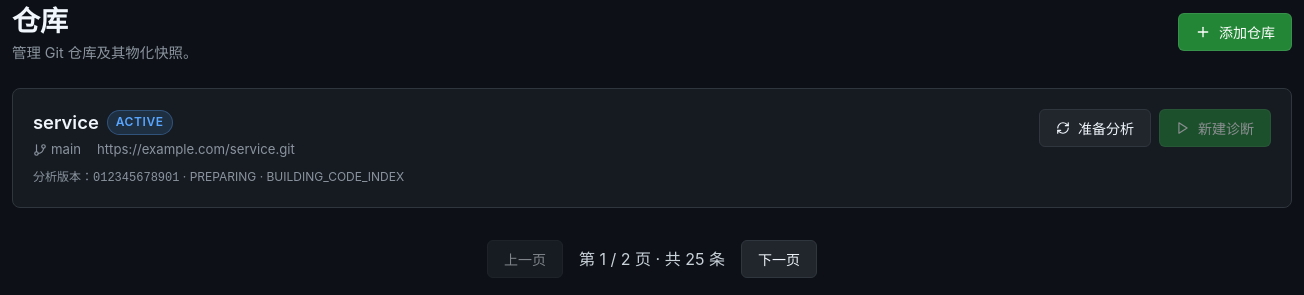
Test: RepositoriesPage AnalysisRevision polling › discards obsolete page requests and polls revisions only on the current page
Click the button "下一页".
click(779, 259)  # box [741,240,817,278]
Wait 1000 ms
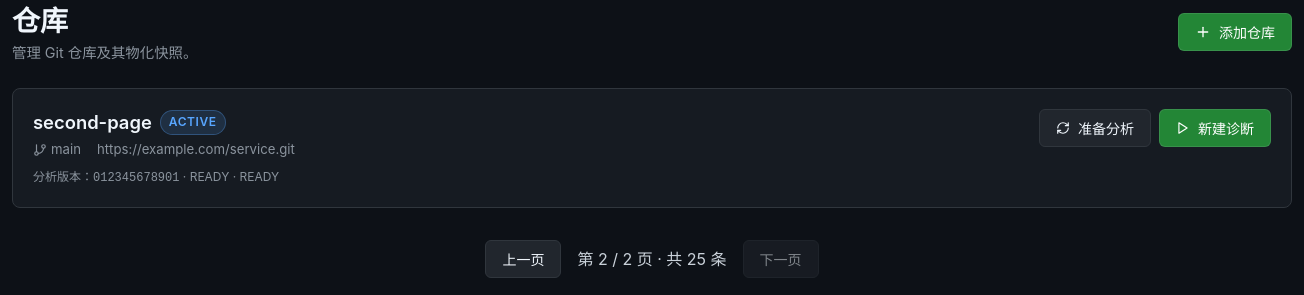
Expected: the text "second-page" is shown, [33,109,152,136]
Expected: the text "READY" is shown, [190,169,229,184]
Expected: the text "第 2 / 2 页" is shown, [577,247,727,271]
